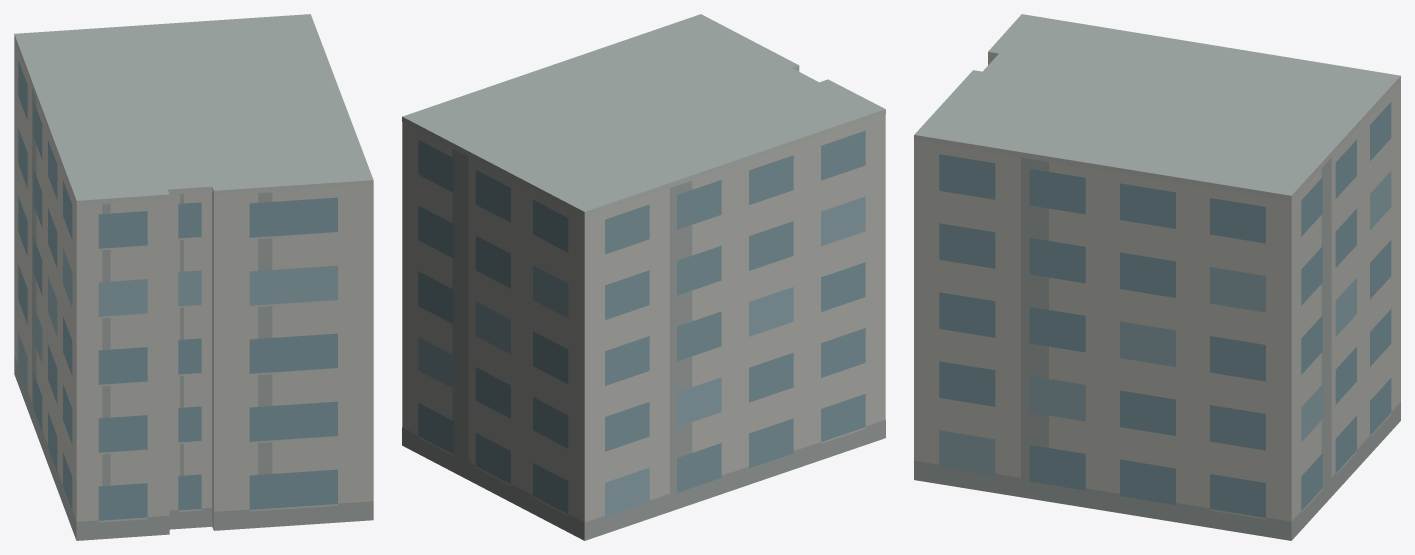
Rendered from survey-upis-32892228.glb.
The picture shows the model from 3 angles, left to right: view 1: azimuth 30°, elevation 25°; view 2: azimuth 150°, elevation 25°; view 3: azimuth 270°, elevation 25°; orthographic projection. The views are drawn at different scales.
Visible parts, largest first — view 1: survey-upis-32892228.tmp; view 2: survey-upis-32892228.tmp; view 3: survey-upis-32892228.tmp.
Part boxes in pixels (left/top/right/bottom): survey-upis-32892228.tmp: left=14, top=14, right=373, bottom=540; survey-upis-32892228.tmp: left=402, top=14, right=885, bottom=540; survey-upis-32892228.tmp: left=914, top=14, right=1400, bottom=540.
Size of the model in its own units: 17.24 by 15.25 by 19.5.
